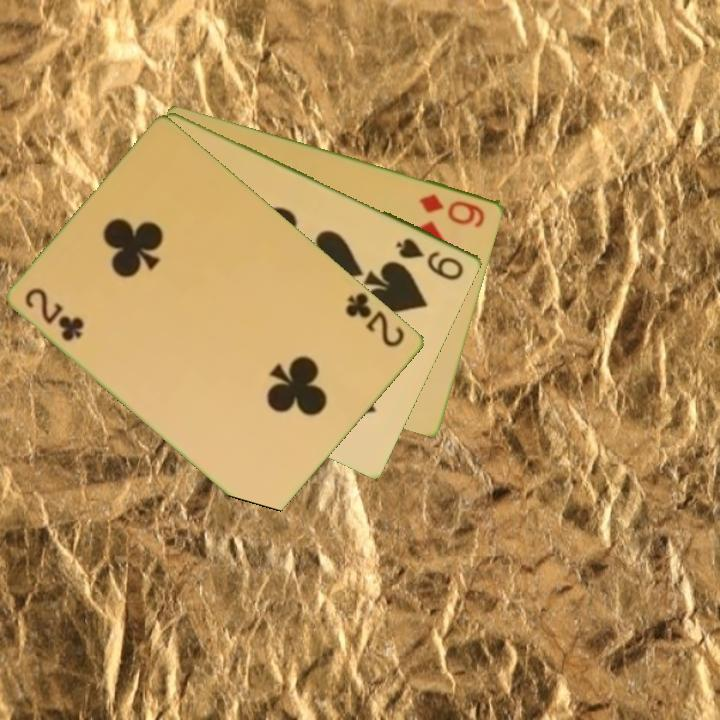2c: (342, 289, 409, 351), (21, 284, 88, 345)
6d: (416, 190, 488, 230)
9s: (393, 234, 468, 284)
